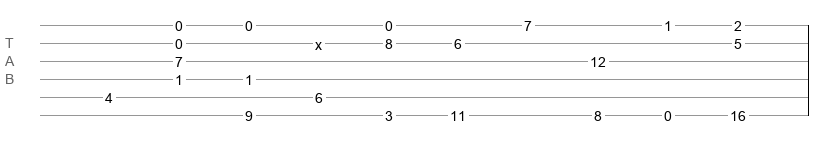0: (175, 36, 183, 46), (175, 18, 183, 28), (245, 18, 253, 28), (385, 18, 393, 28), (664, 108, 672, 118)
1: (175, 72, 183, 82), (245, 72, 253, 82), (664, 18, 672, 28)
11: (450, 108, 466, 118)
12: (590, 54, 606, 64)
16: (730, 108, 746, 118)
2: (734, 18, 742, 28)
3: (385, 108, 393, 118)
4: (105, 90, 113, 100)
5: (734, 36, 742, 46)
6: (315, 90, 323, 100), (454, 36, 462, 46)
7: (175, 54, 183, 64), (524, 18, 532, 28)
8: (385, 36, 393, 46), (594, 108, 602, 118)
9: (245, 108, 253, 118)
x: (315, 37, 322, 45)
